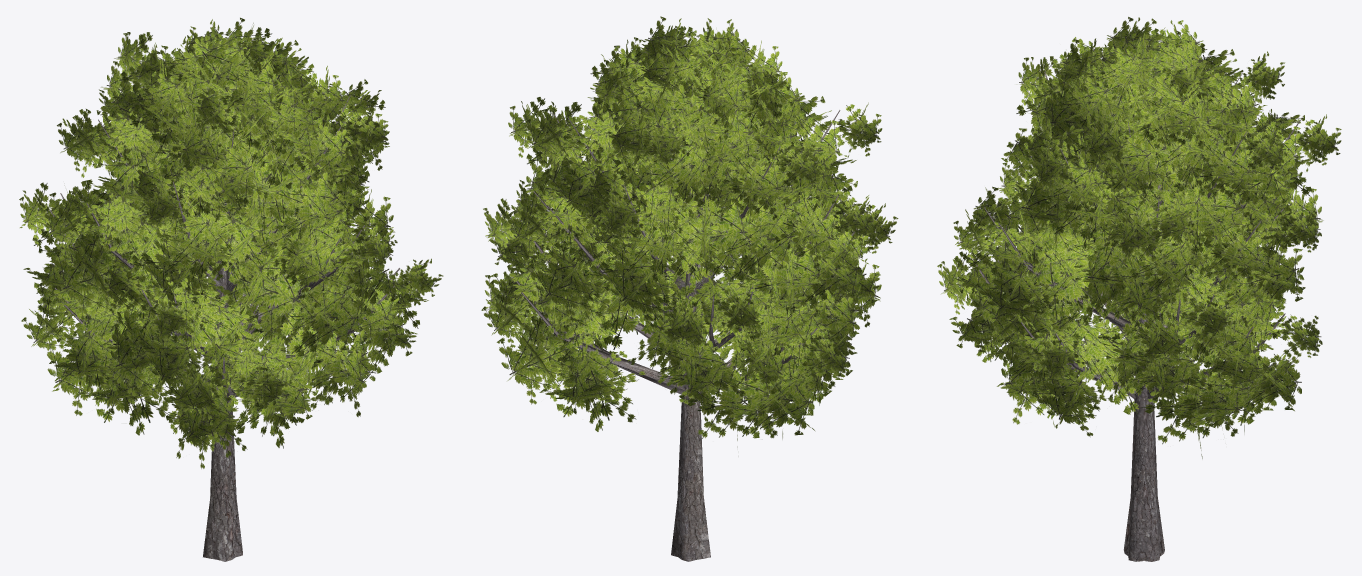
Rendered from ArbolPlaza.glb.
The picture shows the model from 3 angles, left to right: view 1: azimuth 30°, elevation 25°; view 2: azimuth 150°, elevation 25°; view 3: azimuth 270°, elevation 25°; orthographic projection.
Visible parts, largest first — view 1: tree6_leaves_0; view 2: tree6_leaves_0; view 3: tree6_leaves_0.
Boxes of the visible parts, box(x1,y1,x2,y2) form: tree6_leaves_0: box(19, 17, 443, 561); tree6_leaves_0: box(481, 16, 898, 561); tree6_leaves_0: box(937, 17, 1341, 561).
Bounding box in the file's own units: 64.44 × 88.17 × 63.09.
Materials: 2 (2 with a texture image).
